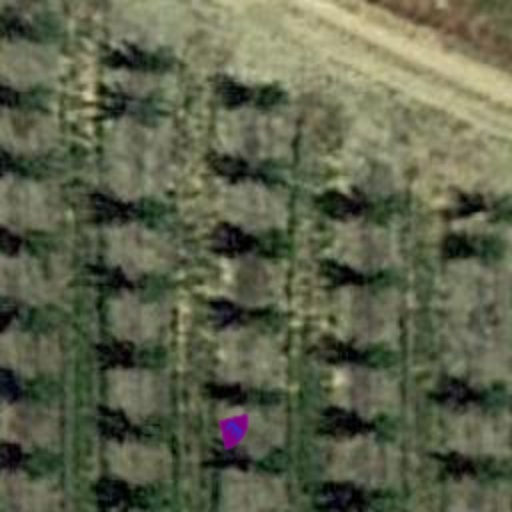quarter_circle: (206, 402, 262, 458)
